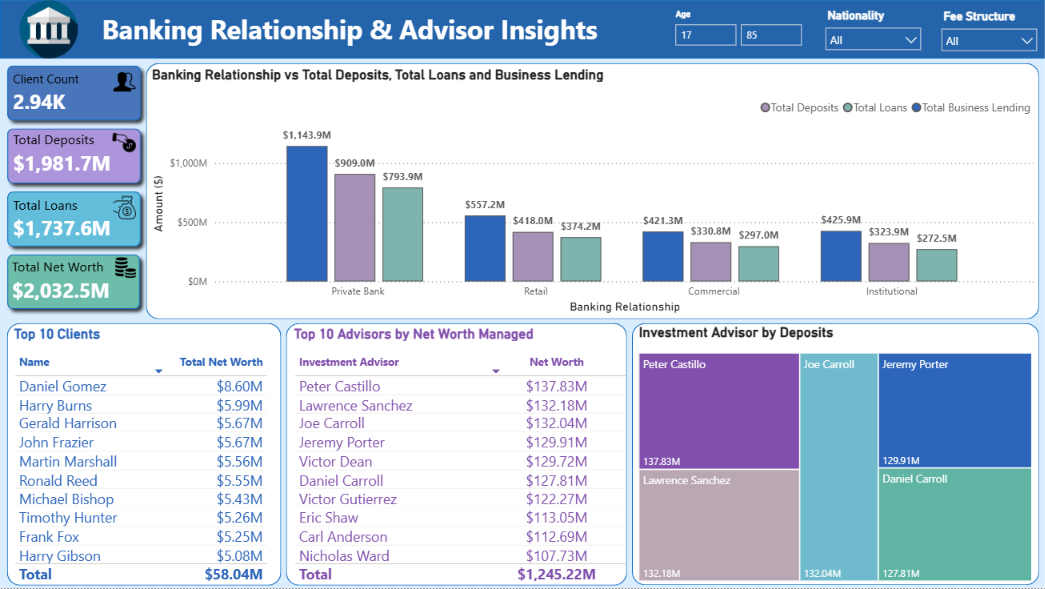

The dashboard page shown, as its layout file describes it:
{"tool":"powerbi","page":{"name":"Page 3","canvas":[1280,720],"ordinal":2},"visuals":[{"type":"shape","box":[772.4,394.9,497.9,320.4],"z":0},{"type":"shape","box":[349.9,394.5,417,320.9],"z":1000},{"type":"shape","box":[8.4,394.5,335.4,320.9],"z":2000},{"type":"shape","box":[178.7,76.6,1092.2,313],"z":3000},{"type":"shape","box":[0,0,1280,71.2],"z":4000},{"type":"clusteredColumnChart","title":"Banking Relationship vs Total Deposits, Total Loans and Business Lending","fields":{"Category":["Clean_Banking_Clients.Banking_Relationship"],"Y":["Measures (2).Total Deposits","Measures (2).Total Loans","Sum(Clean_Banking_Clients.Business_Lending)"]},"box":[181.3,80.7,1089,306.7],"z":5000},{"type":"treemap","title":"Investment Advisor by Deposits","fields":{"Group":["Clean_Banking_Clients.Investment_Advisor"],"Values":["Measures (2).Total Net Worth"]},"box":[776.1,396.1,490.5,319.1],"z":6000},{"type":"tableEx","title":"Top 10 Advisors by Net Worth Managed","fields":{"Values":["Clean_Banking_Clients.Investment_Advisor","Measures (2).Total Net Worth"]},"box":[354.7,397.7,416.5,322.4],"z":7000},{"type":"slicer","fields":{"Values":["Clean_Banking_Clients.Nationality"]},"box":[999.1,4.8,137.5,70],"z":8000},{"type":"slicer","fields":{"Values":["Clean_Banking_Clients.Age"]},"box":[813.3,4.8,181,66.4],"z":9000},{"type":"tableEx","title":"Top 10 Clients","fields":{"Values":["Clean_Banking_Clients.Name","Measures (2).Total Net Worth"]},"box":[12.1,397.6,319.7,322.4],"z":10000},{"type":"textbox","box":[119.4,8.4,623.7,71.2],"z":11000},{"type":"slicer","title":"Fee Structure","fields":{"Values":["Clean_Banking_Clients.Fee_Structure"]},"box":[1141.5,6,137.5,68.8],"z":12000},{"type":"shape","box":[0,71.2,181,85],"z":13000},{"type":"shape","box":[0,148.2,181,85],"z":14000},{"type":"shape","box":[0,225.2,181,85],"z":15000},{"type":"shape","box":[0,302.3,180,84.6],"z":16000},{"type":"cardVisual","fields":{"Data":["Measures (2).Client Count"]},"box":[10.9,80.8,160.5,72.4],"z":17000},{"type":"cardVisual","fields":{"Data":["Measures (2).Total Deposits"]},"box":[10.7,154.5,161.2,76.6],"z":18000},{"type":"cardVisual","fields":{"Data":["Measures (2).Total Loans"]},"box":[10.7,233.8,161.2,64.5],"z":19000},{"type":"cardVisual","fields":{"Data":["Measures (2).Total Net Worth"]},"box":[9.4,309,162.6,73.9],"z":20000},{"type":"image","box":[0,0,119.4,71.2],"z":21000}]}

Visuals, with their boxes in screenshot pixels (x1, y1, x2, y2), scaled from the page's 1280x720 canvas onto the 1045x589 screenshot:
shape: bbox(631, 323, 1037, 585)
shape: bbox(286, 323, 626, 585)
shape: bbox(7, 323, 281, 585)
shape: bbox(146, 63, 1038, 319)
shape: bbox(0, 0, 1044, 58)
"Banking Relationship vs Total Deposits, Total Loans and Business Lending" clusteredColumnChart: bbox(148, 66, 1037, 317)
"Investment Advisor by Deposits" treemap: bbox(634, 324, 1034, 585)
"Top 10 Advisors by Net Worth Managed" tableEx: bbox(290, 325, 630, 588)
slicer - Clean_Banking_Clients.Nationality: bbox(816, 4, 928, 61)
slicer - Clean_Banking_Clients.Age: bbox(664, 4, 812, 58)
"Top 10 Clients" tableEx: bbox(10, 325, 271, 588)
textbox: bbox(97, 7, 607, 65)
"Fee Structure" slicer: bbox(932, 5, 1044, 61)
shape: bbox(0, 58, 148, 128)
shape: bbox(0, 121, 148, 191)
shape: bbox(0, 184, 148, 254)
shape: bbox(0, 247, 147, 317)
cardVisual - Measures (2).Client Count: bbox(9, 66, 140, 125)
cardVisual - Measures (2).Total Deposits: bbox(9, 126, 140, 189)
cardVisual - Measures (2).Total Loans: bbox(9, 191, 140, 244)
cardVisual - Measures (2).Total Net Worth: bbox(8, 253, 140, 313)
image: bbox(0, 0, 97, 58)
